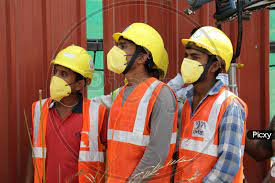Helmet: (185, 25, 240, 63), (118, 20, 171, 53), (56, 43, 100, 80)
Jacket: (27, 100, 104, 183), (178, 98, 247, 183), (108, 84, 170, 176)
Mask: (176, 62, 215, 86), (42, 76, 79, 100), (104, 45, 133, 75)
